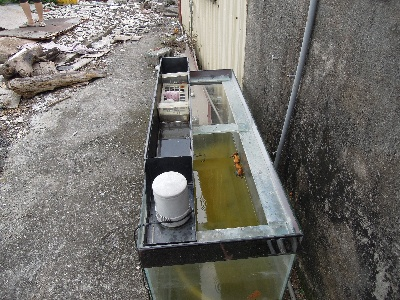aquarium: (135, 55, 304, 300)
